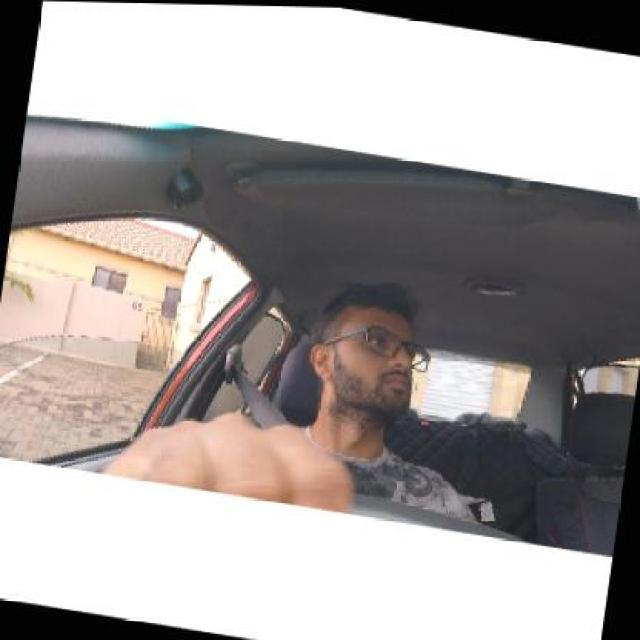person: (309, 283, 424, 424)
